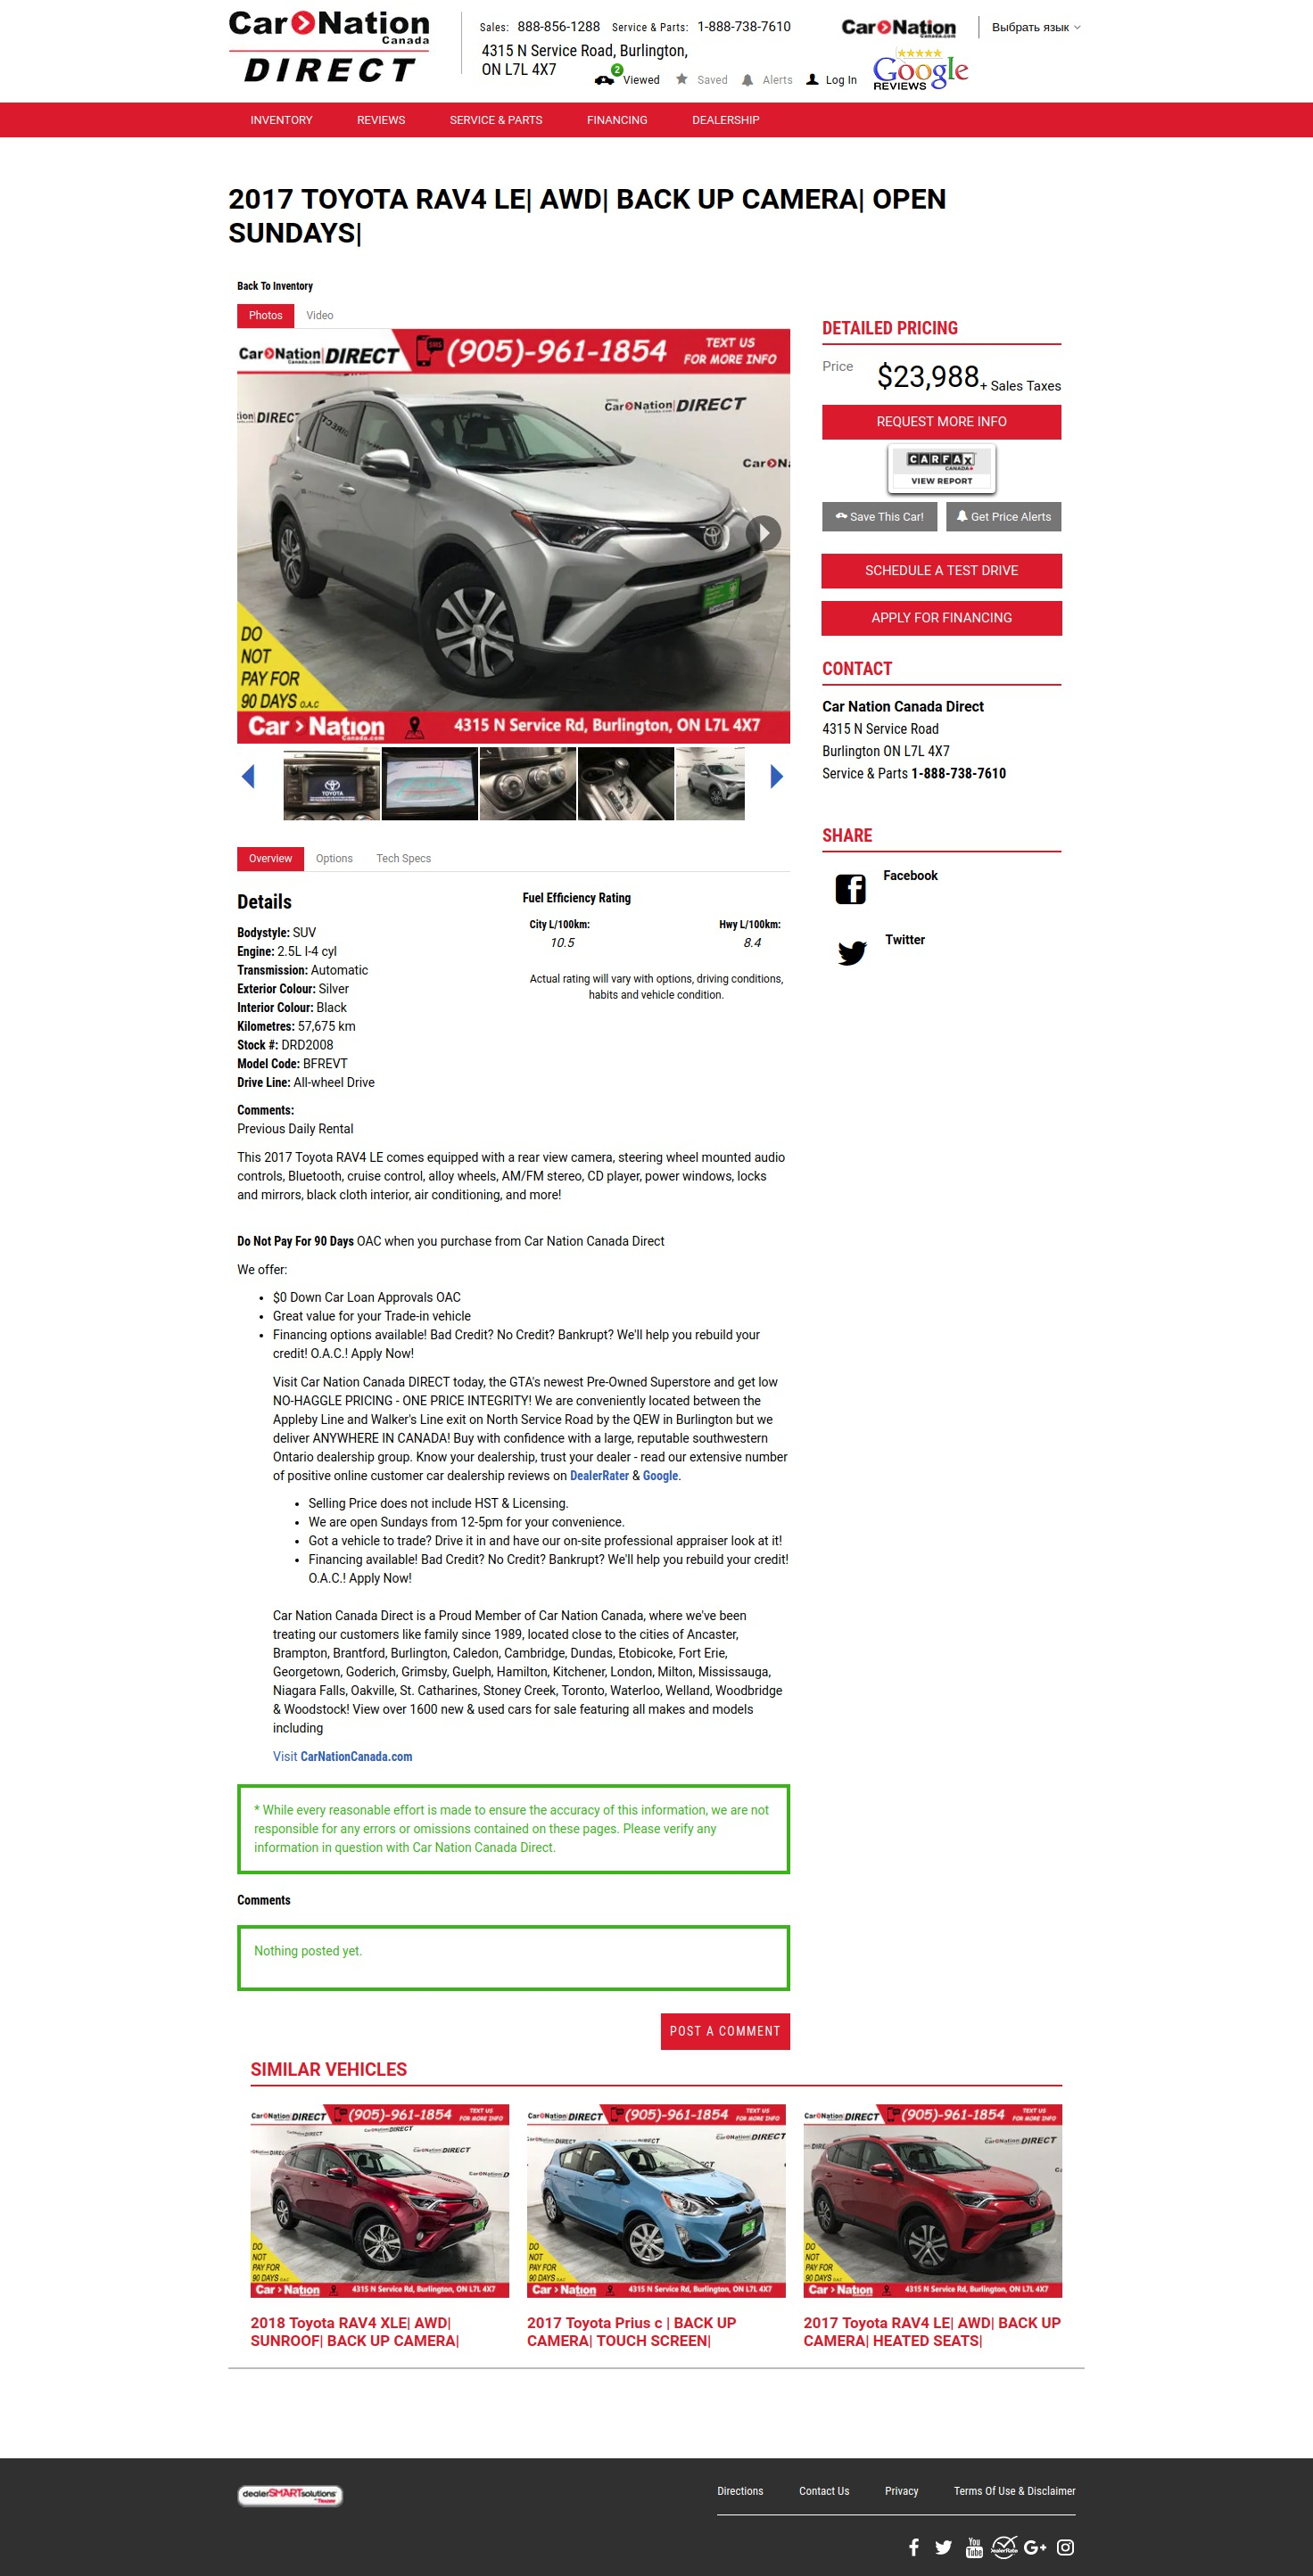car: (770, 765, 785, 792)
